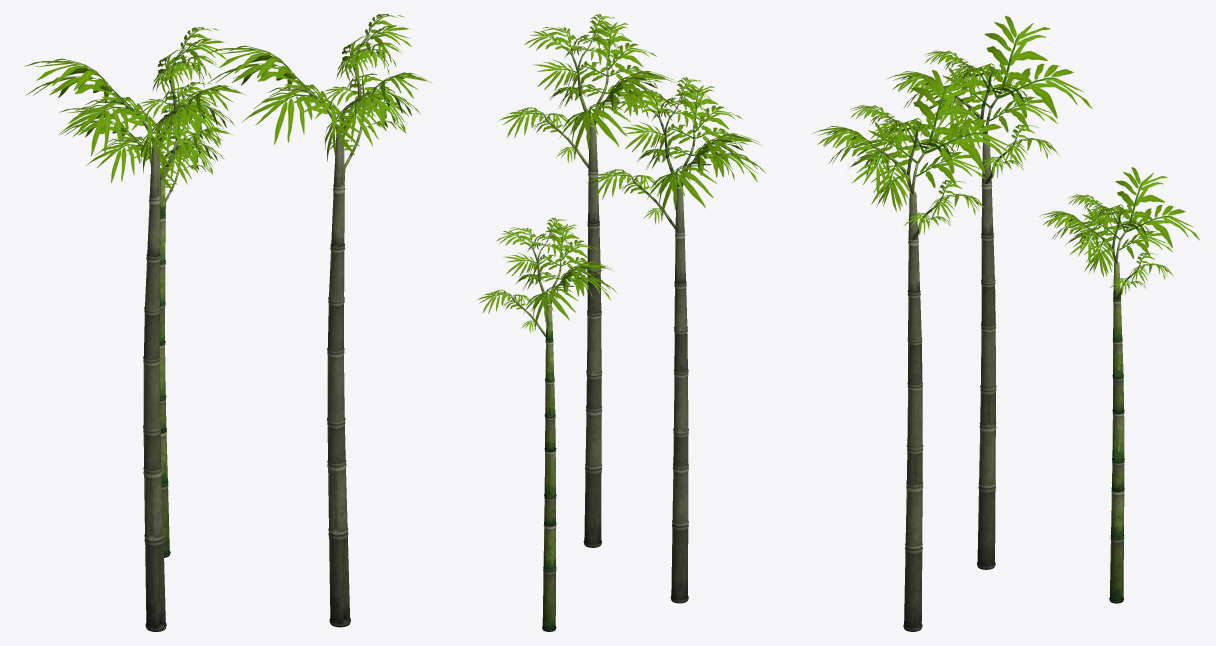
File: bamboo-grove.glb
The picture shows the model from 3 angles, left to right: view 1: azimuth 30°, elevation 25°; view 2: azimuth 150°, elevation 25°; view 3: azimuth 270°, elevation 25°; orthographic projection. The views are drawn at different scales.
Visible parts, largest first — view 1: bambooBlock.009_20, bambooBlock.011_18, bambooBlock.008_21; view 2: bambooBlock.009_20, bambooBlock.011_18, bambooBlock.008_21; view 3: bambooBlock.009_20, bambooBlock.011_18, bambooBlock.008_21.
Part boxes in pixels (box(x1,y1,x2,y2)): bambooBlock.009_20: box(207, 14, 430, 627); bambooBlock.011_18: box(25, 27, 246, 631); bambooBlock.008_21: box(59, 82, 231, 557); bambooBlock.009_20: box(499, 14, 679, 547); bambooBlock.011_18: box(586, 77, 765, 603); bambooBlock.008_21: box(476, 217, 617, 631); bambooBlock.009_20: box(811, 69, 1020, 631); bambooBlock.011_18: box(886, 16, 1092, 569); bambooBlock.008_21: box(1039, 167, 1200, 603).
Size of the model in its own units: 8.69 by 14.3 by 9.76.
4 materials, 4 textured.
